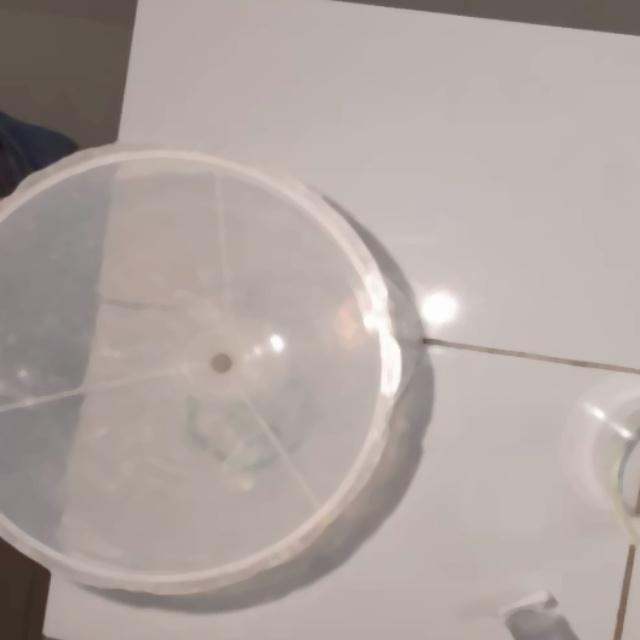Funnel: (3, 139, 406, 613)
